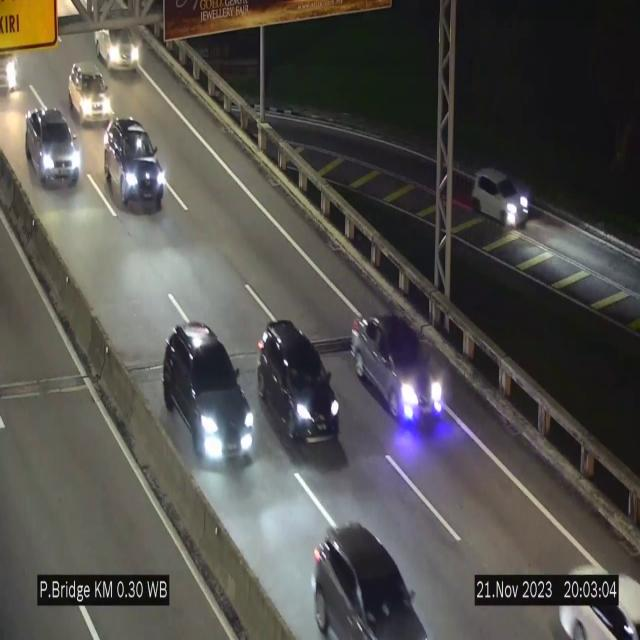Car: (304, 507, 431, 640), (165, 323, 265, 470), (541, 525, 640, 640), (254, 318, 341, 448), (354, 316, 444, 434), (101, 112, 166, 210), (466, 154, 534, 236), (66, 62, 120, 142), (26, 108, 80, 186), (95, 8, 143, 76)
